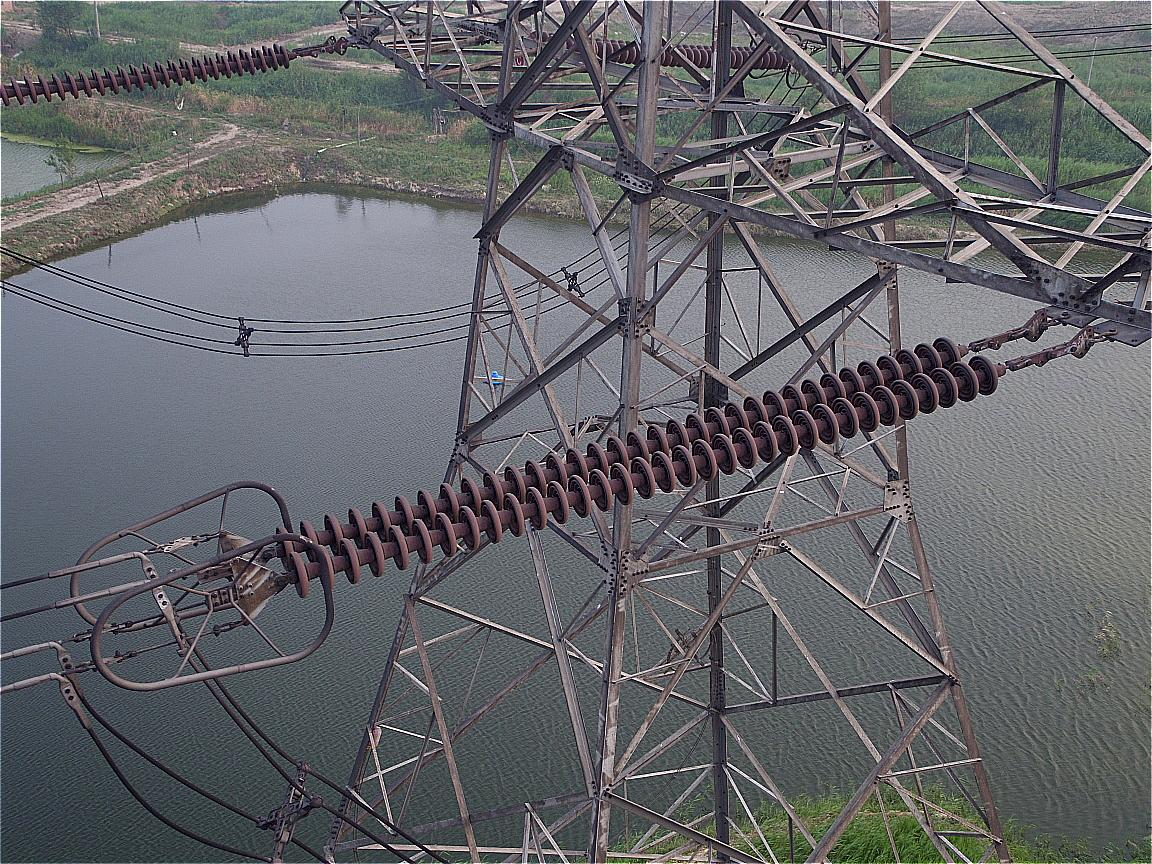insultor1: (275, 334, 997, 598), (3, 42, 291, 106)
